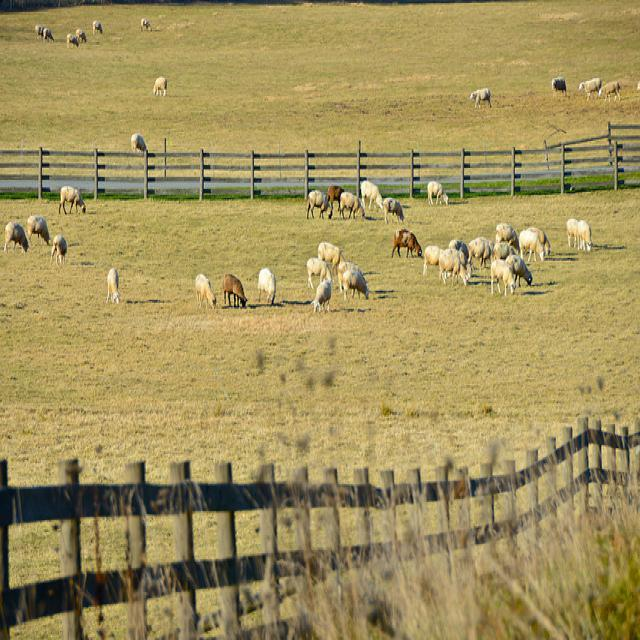cow: (1, 8, 623, 308), (436, 250, 469, 285), (193, 271, 217, 309), (304, 188, 332, 218), (23, 213, 50, 244), (524, 225, 549, 253), (577, 76, 602, 102), (469, 85, 493, 111), (447, 237, 468, 258), (129, 130, 146, 150), (550, 75, 564, 96)
